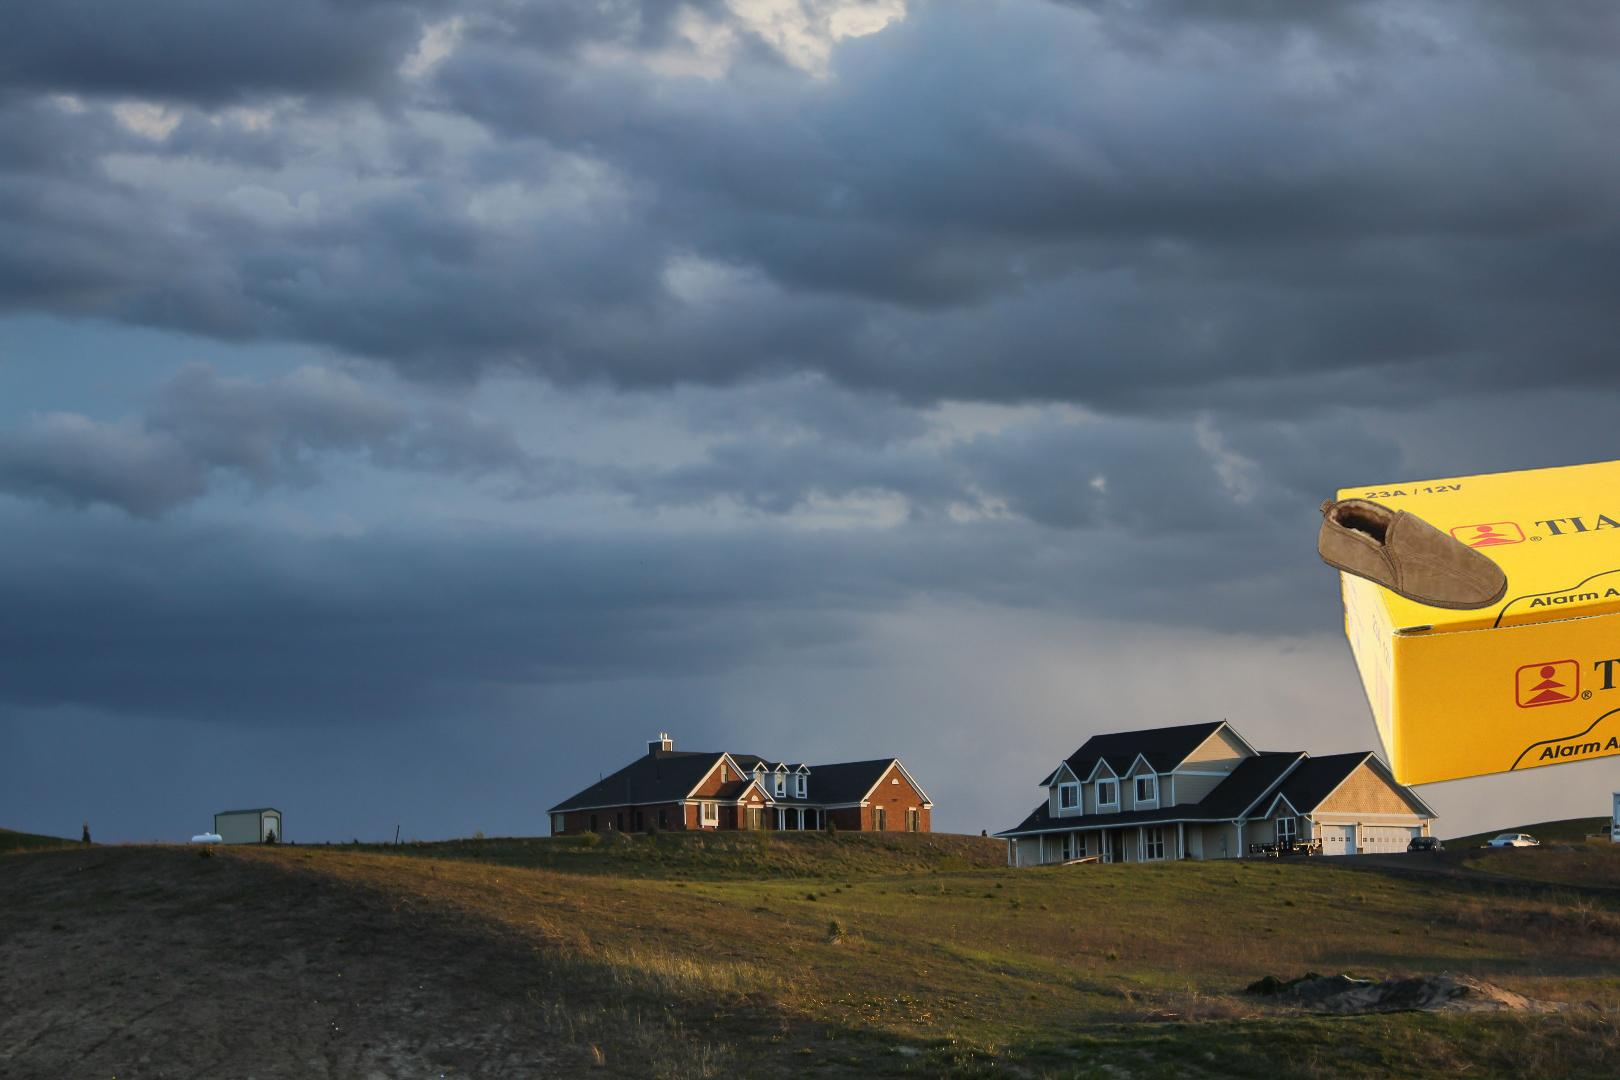battery: (1330, 419, 1620, 830)
shoes: (1314, 495, 1512, 614)
